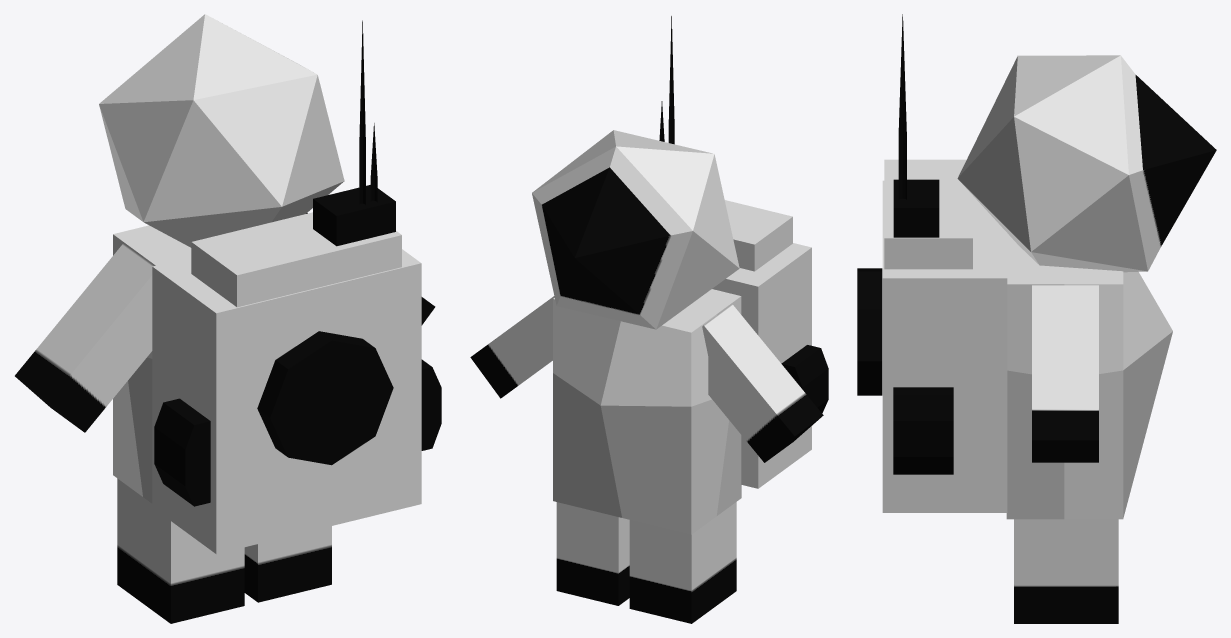
The model's file is astronautJoin.fbx.
3 renders of one model, left to right at view 1: azimuth 30°, elevation 25°; view 2: azimuth 150°, elevation 25°; view 3: azimuth 270°, elevation 25°, orthographic. The views are drawn at different scales.
Parts seen in each view (by area): view 1: legs; view 2: legs; view 3: legs.
Boxes of the visible parts, x1,y1,x2,y2 form: legs: (15, 14, 441, 623); legs: (470, 16, 828, 623); legs: (857, 14, 1216, 623).
Bounding box in the file's own units: 336 × 509 × 278.
1 material, 1 textured.
